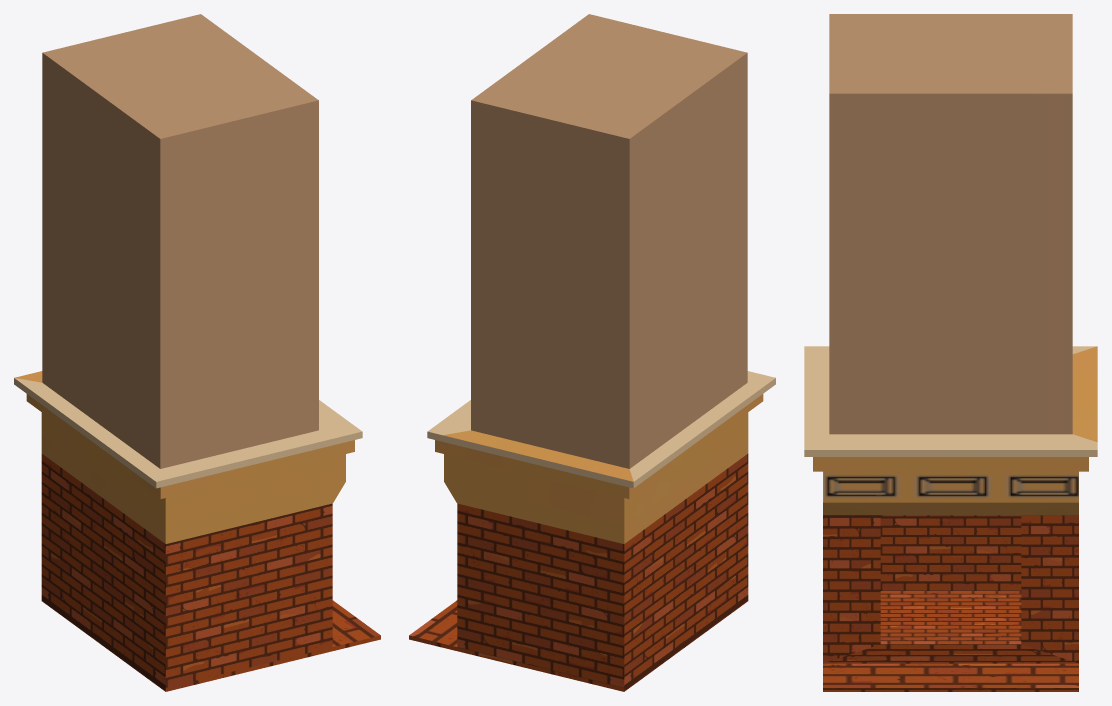
File: Chimenea.obj
3 views of the same model, side by side, from view 1: azimuth 30°, elevation 25°; view 2: azimuth 150°, elevation 25°; view 3: azimuth 270°, elevation 25° (orthographic). The views are drawn at different scales.
Visible parts, largest first — view 1: Plano; view 2: Plano; view 3: Plano.
Boxes of the visible parts, bbox=[...] form: Plano: bbox=[14, 14, 380, 691]; Plano: bbox=[409, 14, 775, 691]; Plano: bbox=[804, 14, 1097, 691].
Bounding box in the file's own units: 4.31 × 9.72 × 4.54.
1 material, 1 textured.
